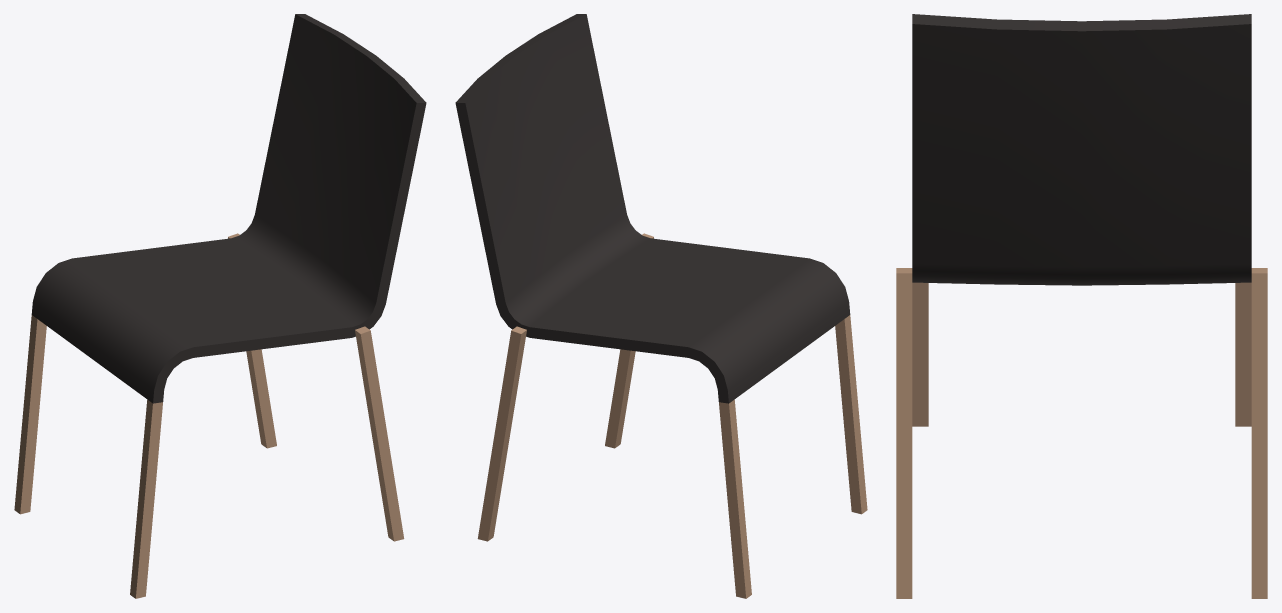
The model's file is Chair.fbx.
The picture shows the model from 3 angles, left to right: view 1: azimuth 30°, elevation 25°; view 2: azimuth 150°, elevation 25°; view 3: azimuth 270°, elevation 25°; orthographic projection. The views are drawn at different scales.
Visible parts, largest first — view 1: plastic_chair_01.020; view 2: plastic_chair_01.020; view 3: plastic_chair_01.020.
Part boxes in pixels (x1,y1,x2,y2): plastic_chair_01.020: (14,14,426,598); plastic_chair_01.020: (455,14,867,598); plastic_chair_01.020: (896,14,1267,598).
Size of the model in its own units: 1.33 by 1.8 by 1.01.
